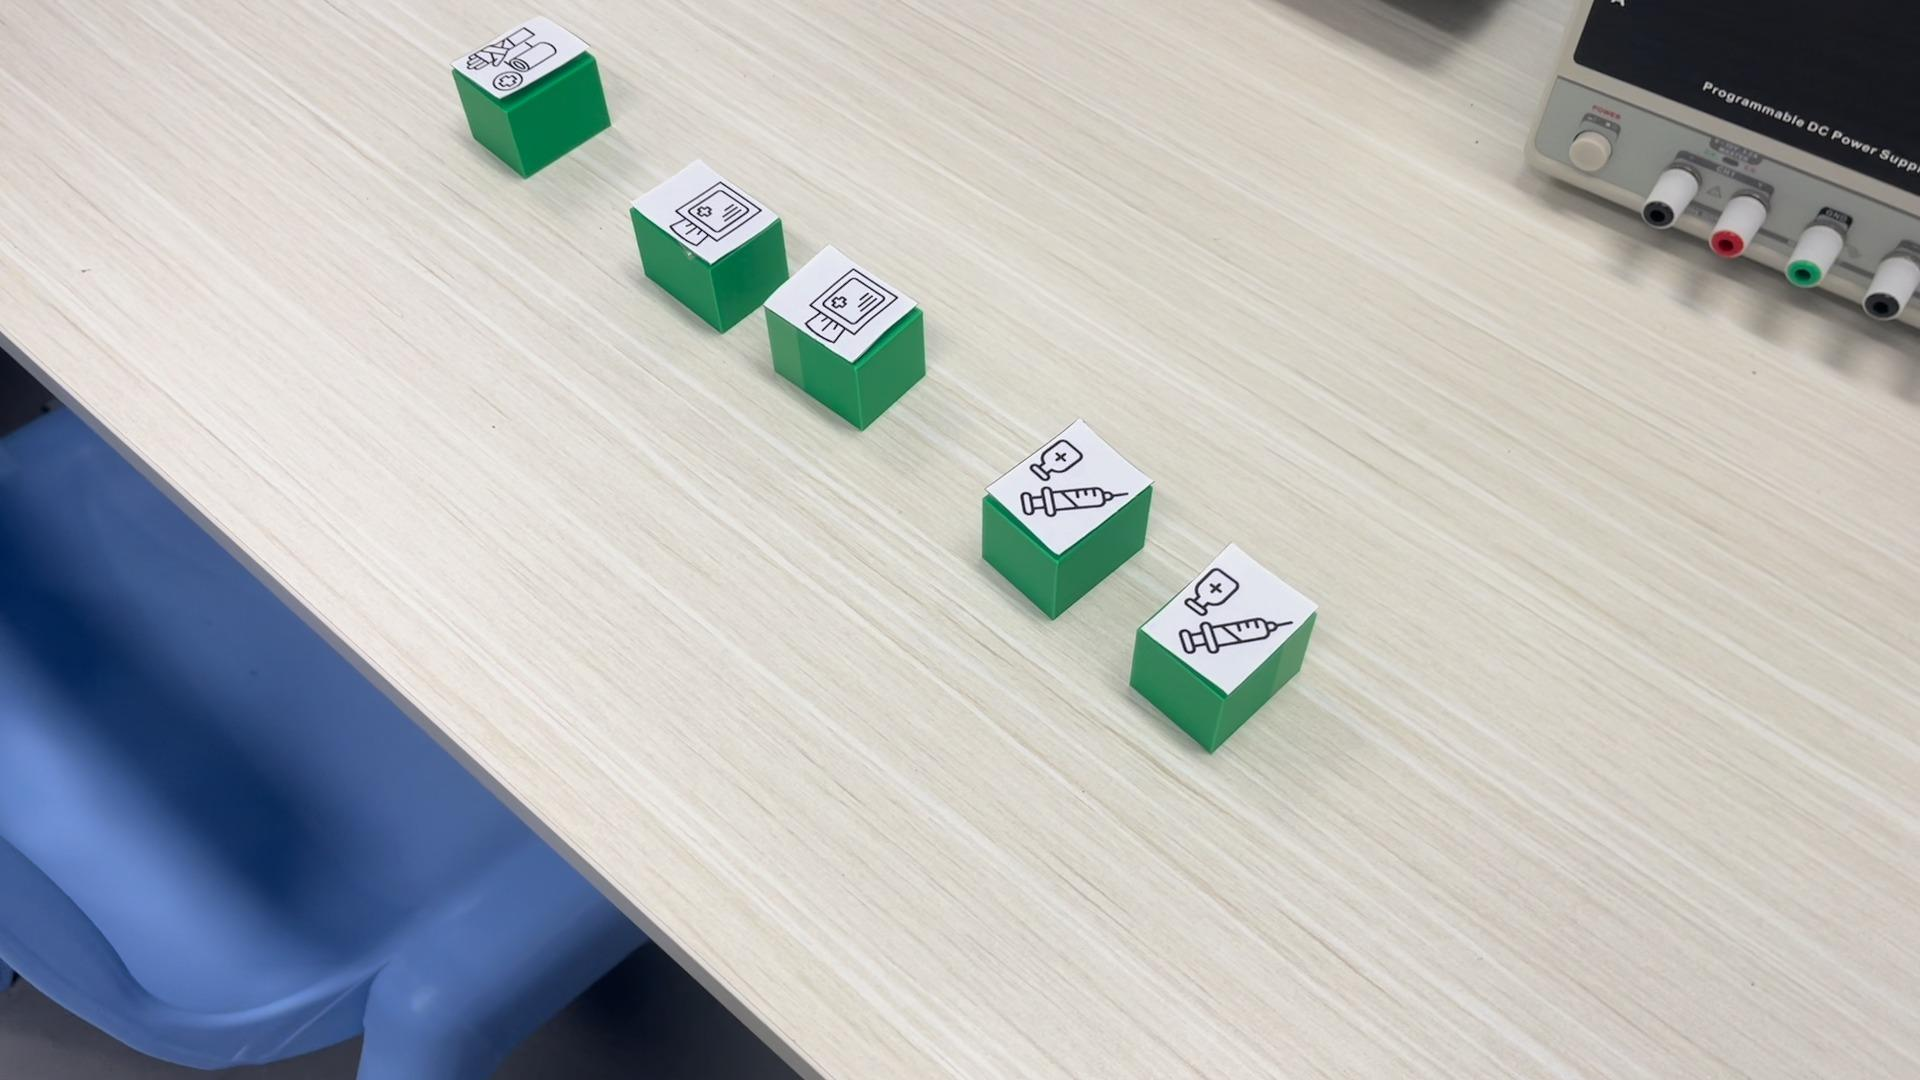Bandages: (447, 13, 611, 178)
Gauze: (764, 244, 926, 430), (628, 157, 787, 335)
antiseptic cream: (1127, 539, 1320, 752), (978, 417, 1156, 618)
